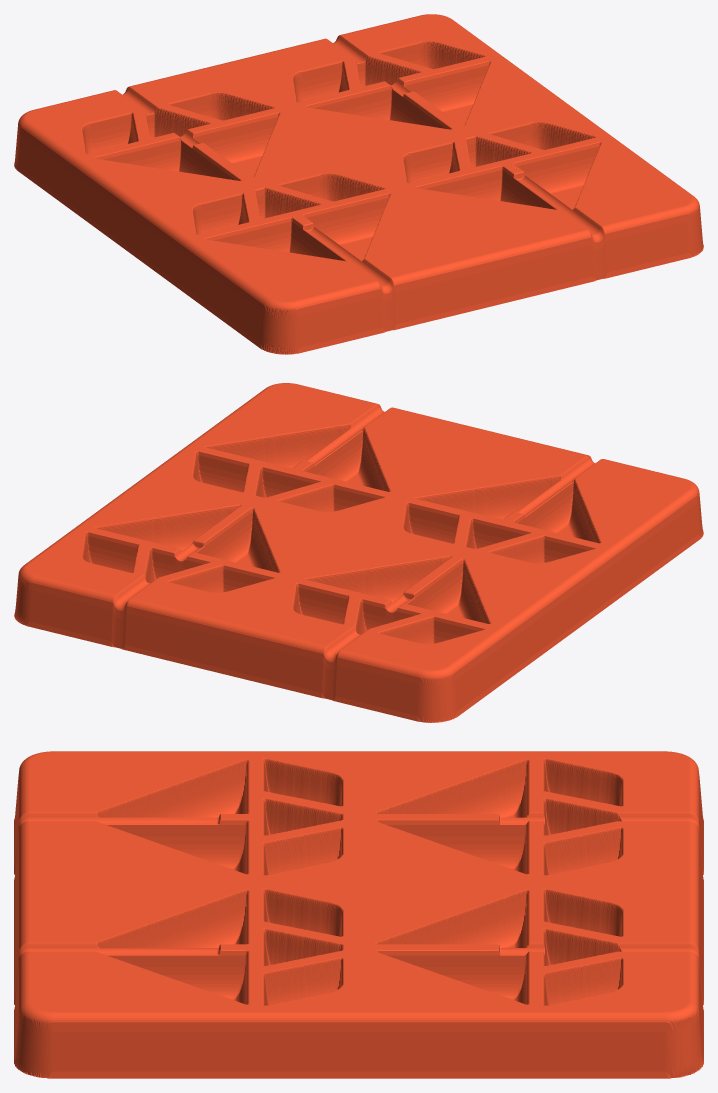
File: mold.glb
The picture shows the model from 3 angles, top to bottom: view 1: azimuth 30°, elevation 25°; view 2: azimuth 150°, elevation 25°; view 3: azimuth 270°, elevation 25°; orthographic projection. The views are drawn at different scales.
Visible parts, largest first — view 1: geometry_0; view 2: geometry_0; view 3: geometry_0.
Boxes of the visible parts, x1=… form: geometry_0: x1=14, y1=14, x2=703, y2=354; geometry_0: x1=14, y1=383, x2=703, y2=722; geometry_0: x1=14, y1=751, x2=703, y2=1078.
Bounding box in the file's own units: 0.1497 × 0.0155 × 0.1603.
